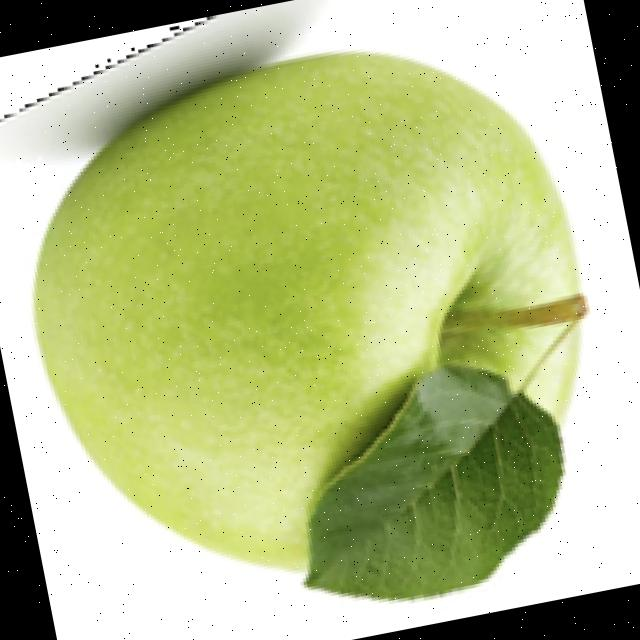apple: (15, 7, 593, 607)
